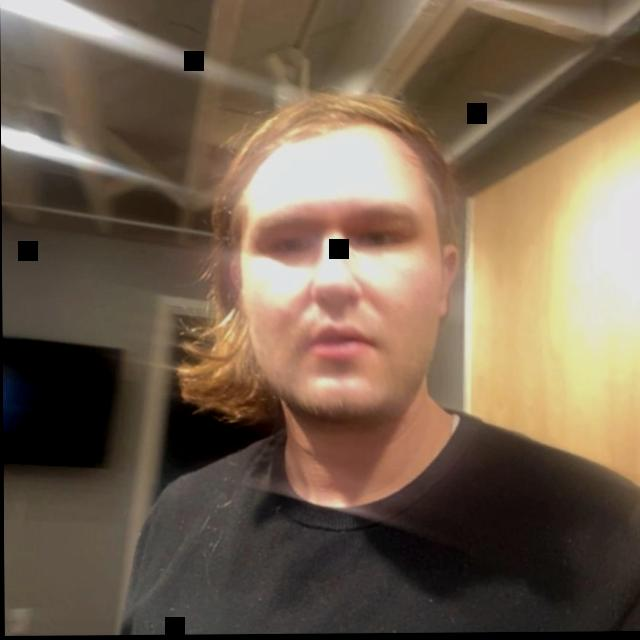NO-Mask: (156, 55, 484, 484)
